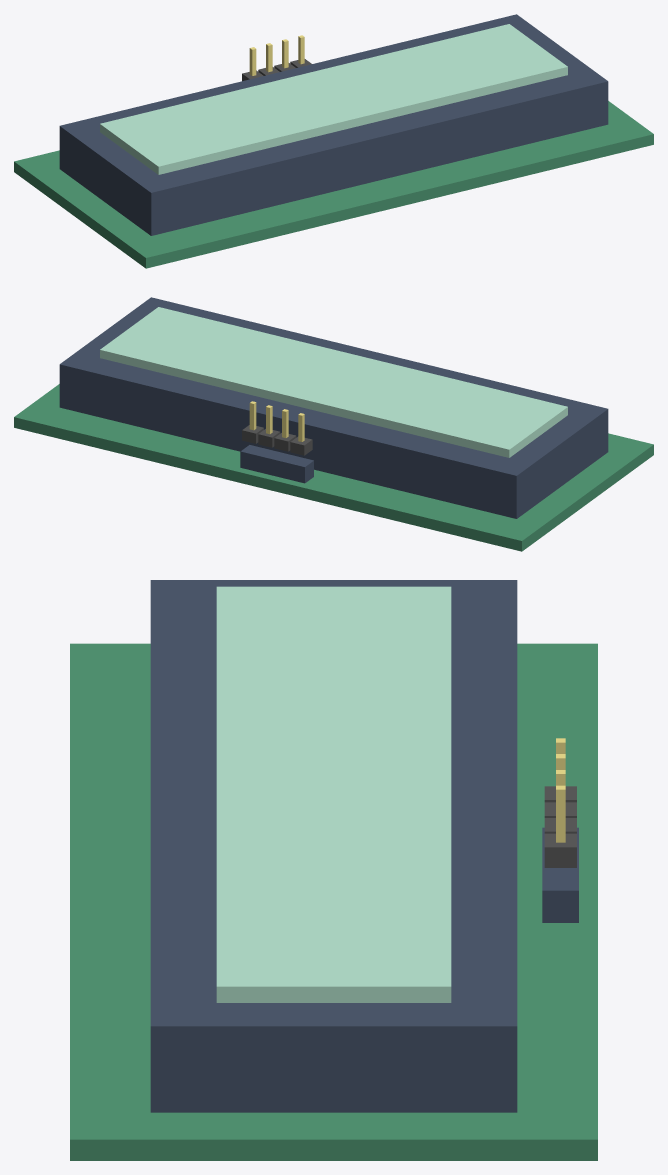
File: lcd1602.glb
3 views of the same model, one above another, from view 1: azimuth 30°, elevation 25°; view 2: azimuth 150°, elevation 25°; view 3: azimuth 270°, elevation 25° (orthographic). The views are drawn at different scales.
Visible parts, largest first — view 1: lcd-1602-i2c_mesh; view 2: lcd-1602-i2c_mesh; view 3: lcd-1602-i2c_mesh.
Part boxes in pixels (left/top/right/bottom): lcd-1602-i2c_mesh: left=14, top=14, right=653, bottom=268; lcd-1602-i2c_mesh: left=14, top=297, right=653, bottom=551; lcd-1602-i2c_mesh: left=70, top=580, right=597, bottom=1160.
Bounding box in the file's own units: 80 × 14.8 × 36.
